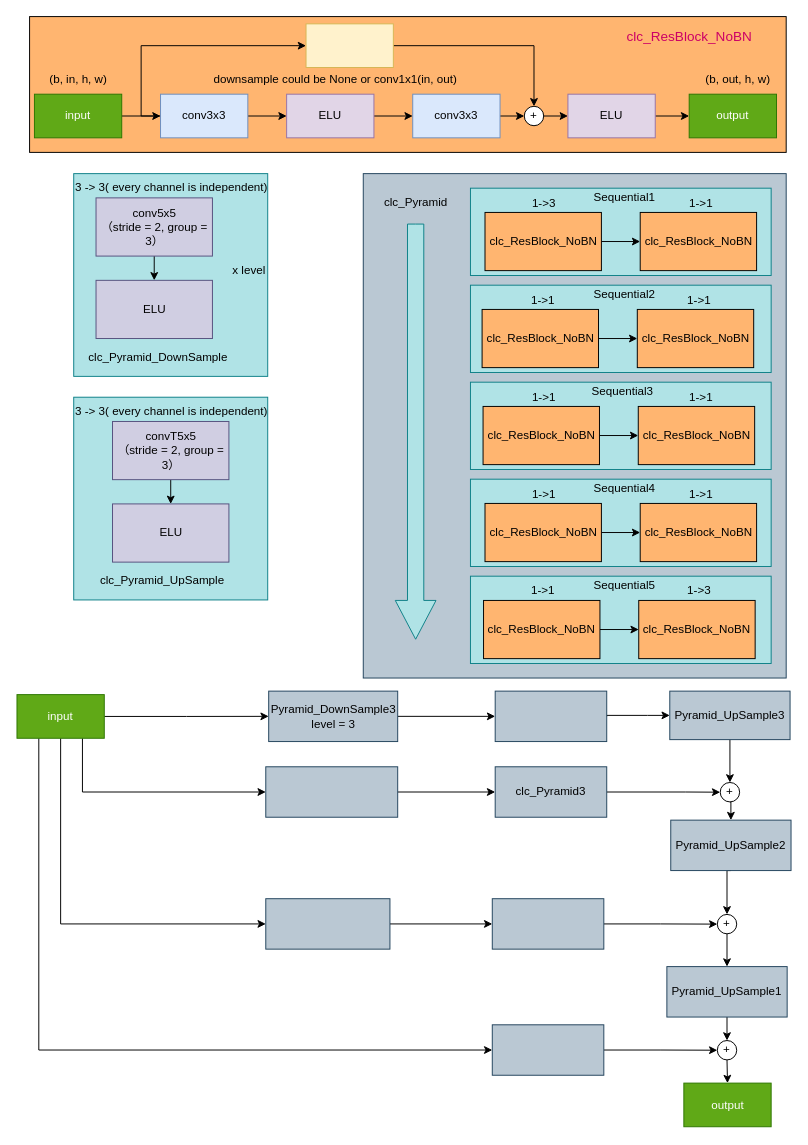
Image size: 808x1145. Some labels were removed from this diagram. Here are the shapes that lost their labels. From the top down, the centre of each, then its label:
At [349,45]: "downsample".
At [550,716]: "clc_Pyramid4".
At [331,791]: "Pyramid_DownSample2 level = 2".
At [327,923]: "Pyramid_DownSample1 level = 1".
At [547,923]: "clc_Pyramid2".
At [547,1049]: "clc_Pyramid1".
